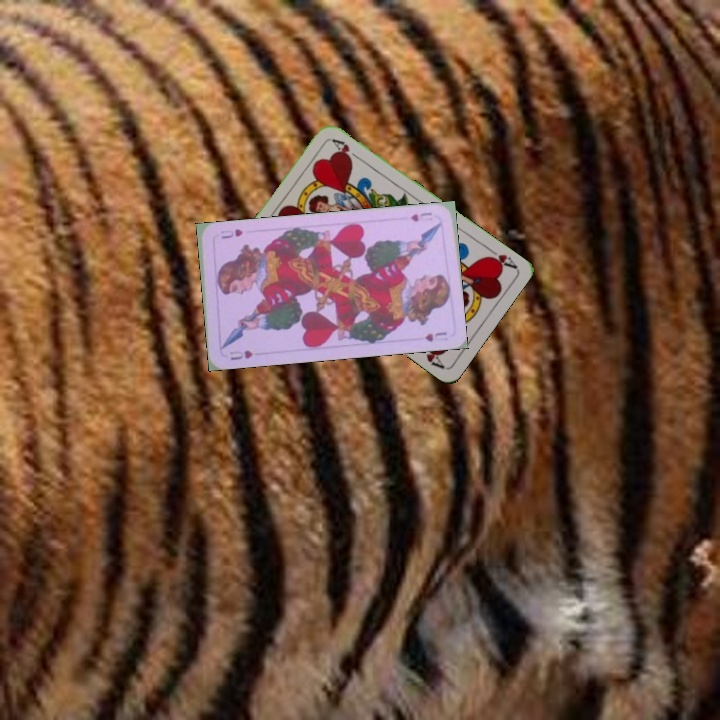HA: (482, 243, 519, 271)
HU: (226, 346, 255, 362), (406, 208, 435, 224)
